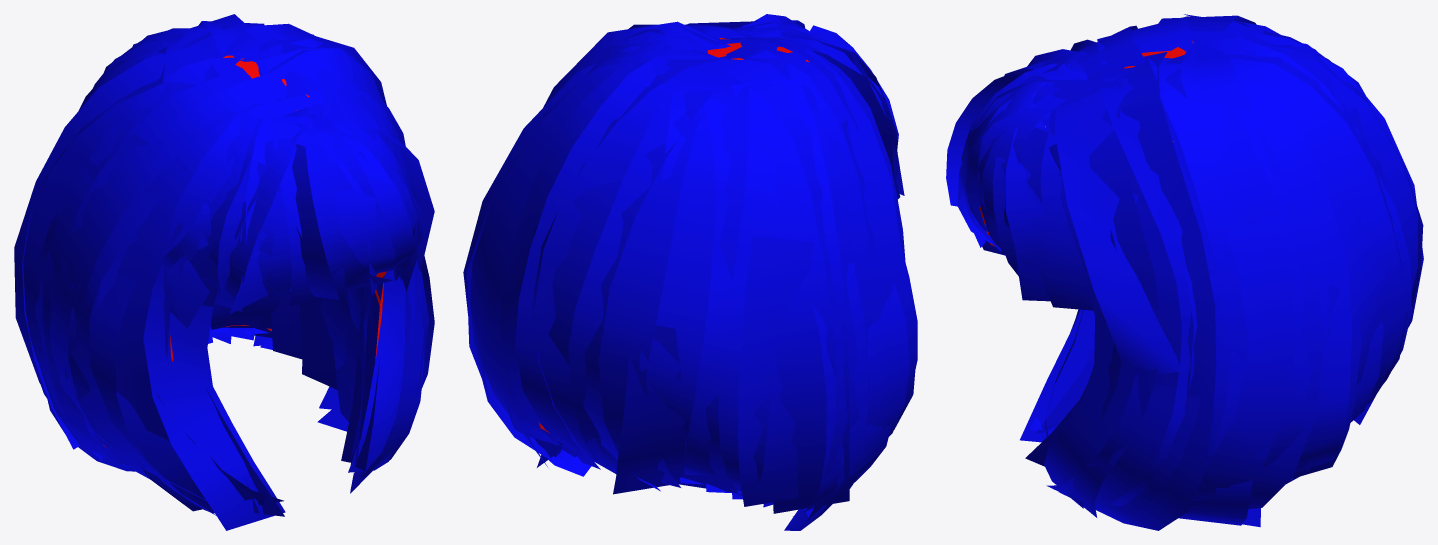
Rendered from hair_005.obj.
3 views of the same model, side by side, from view 1: azimuth 30°, elevation 25°; view 2: azimuth 150°, elevation 25°; view 3: azimuth 270°, elevation 25° (orthographic). The views are drawn at different scales.
Bounding box in the file's own units: 25.8 × 27.86 × 27.38.
